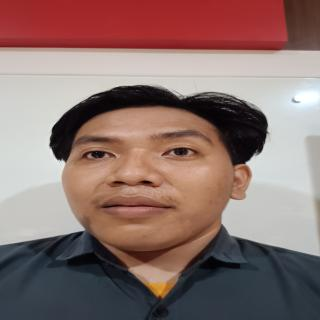Takut: (57, 101, 235, 262)
